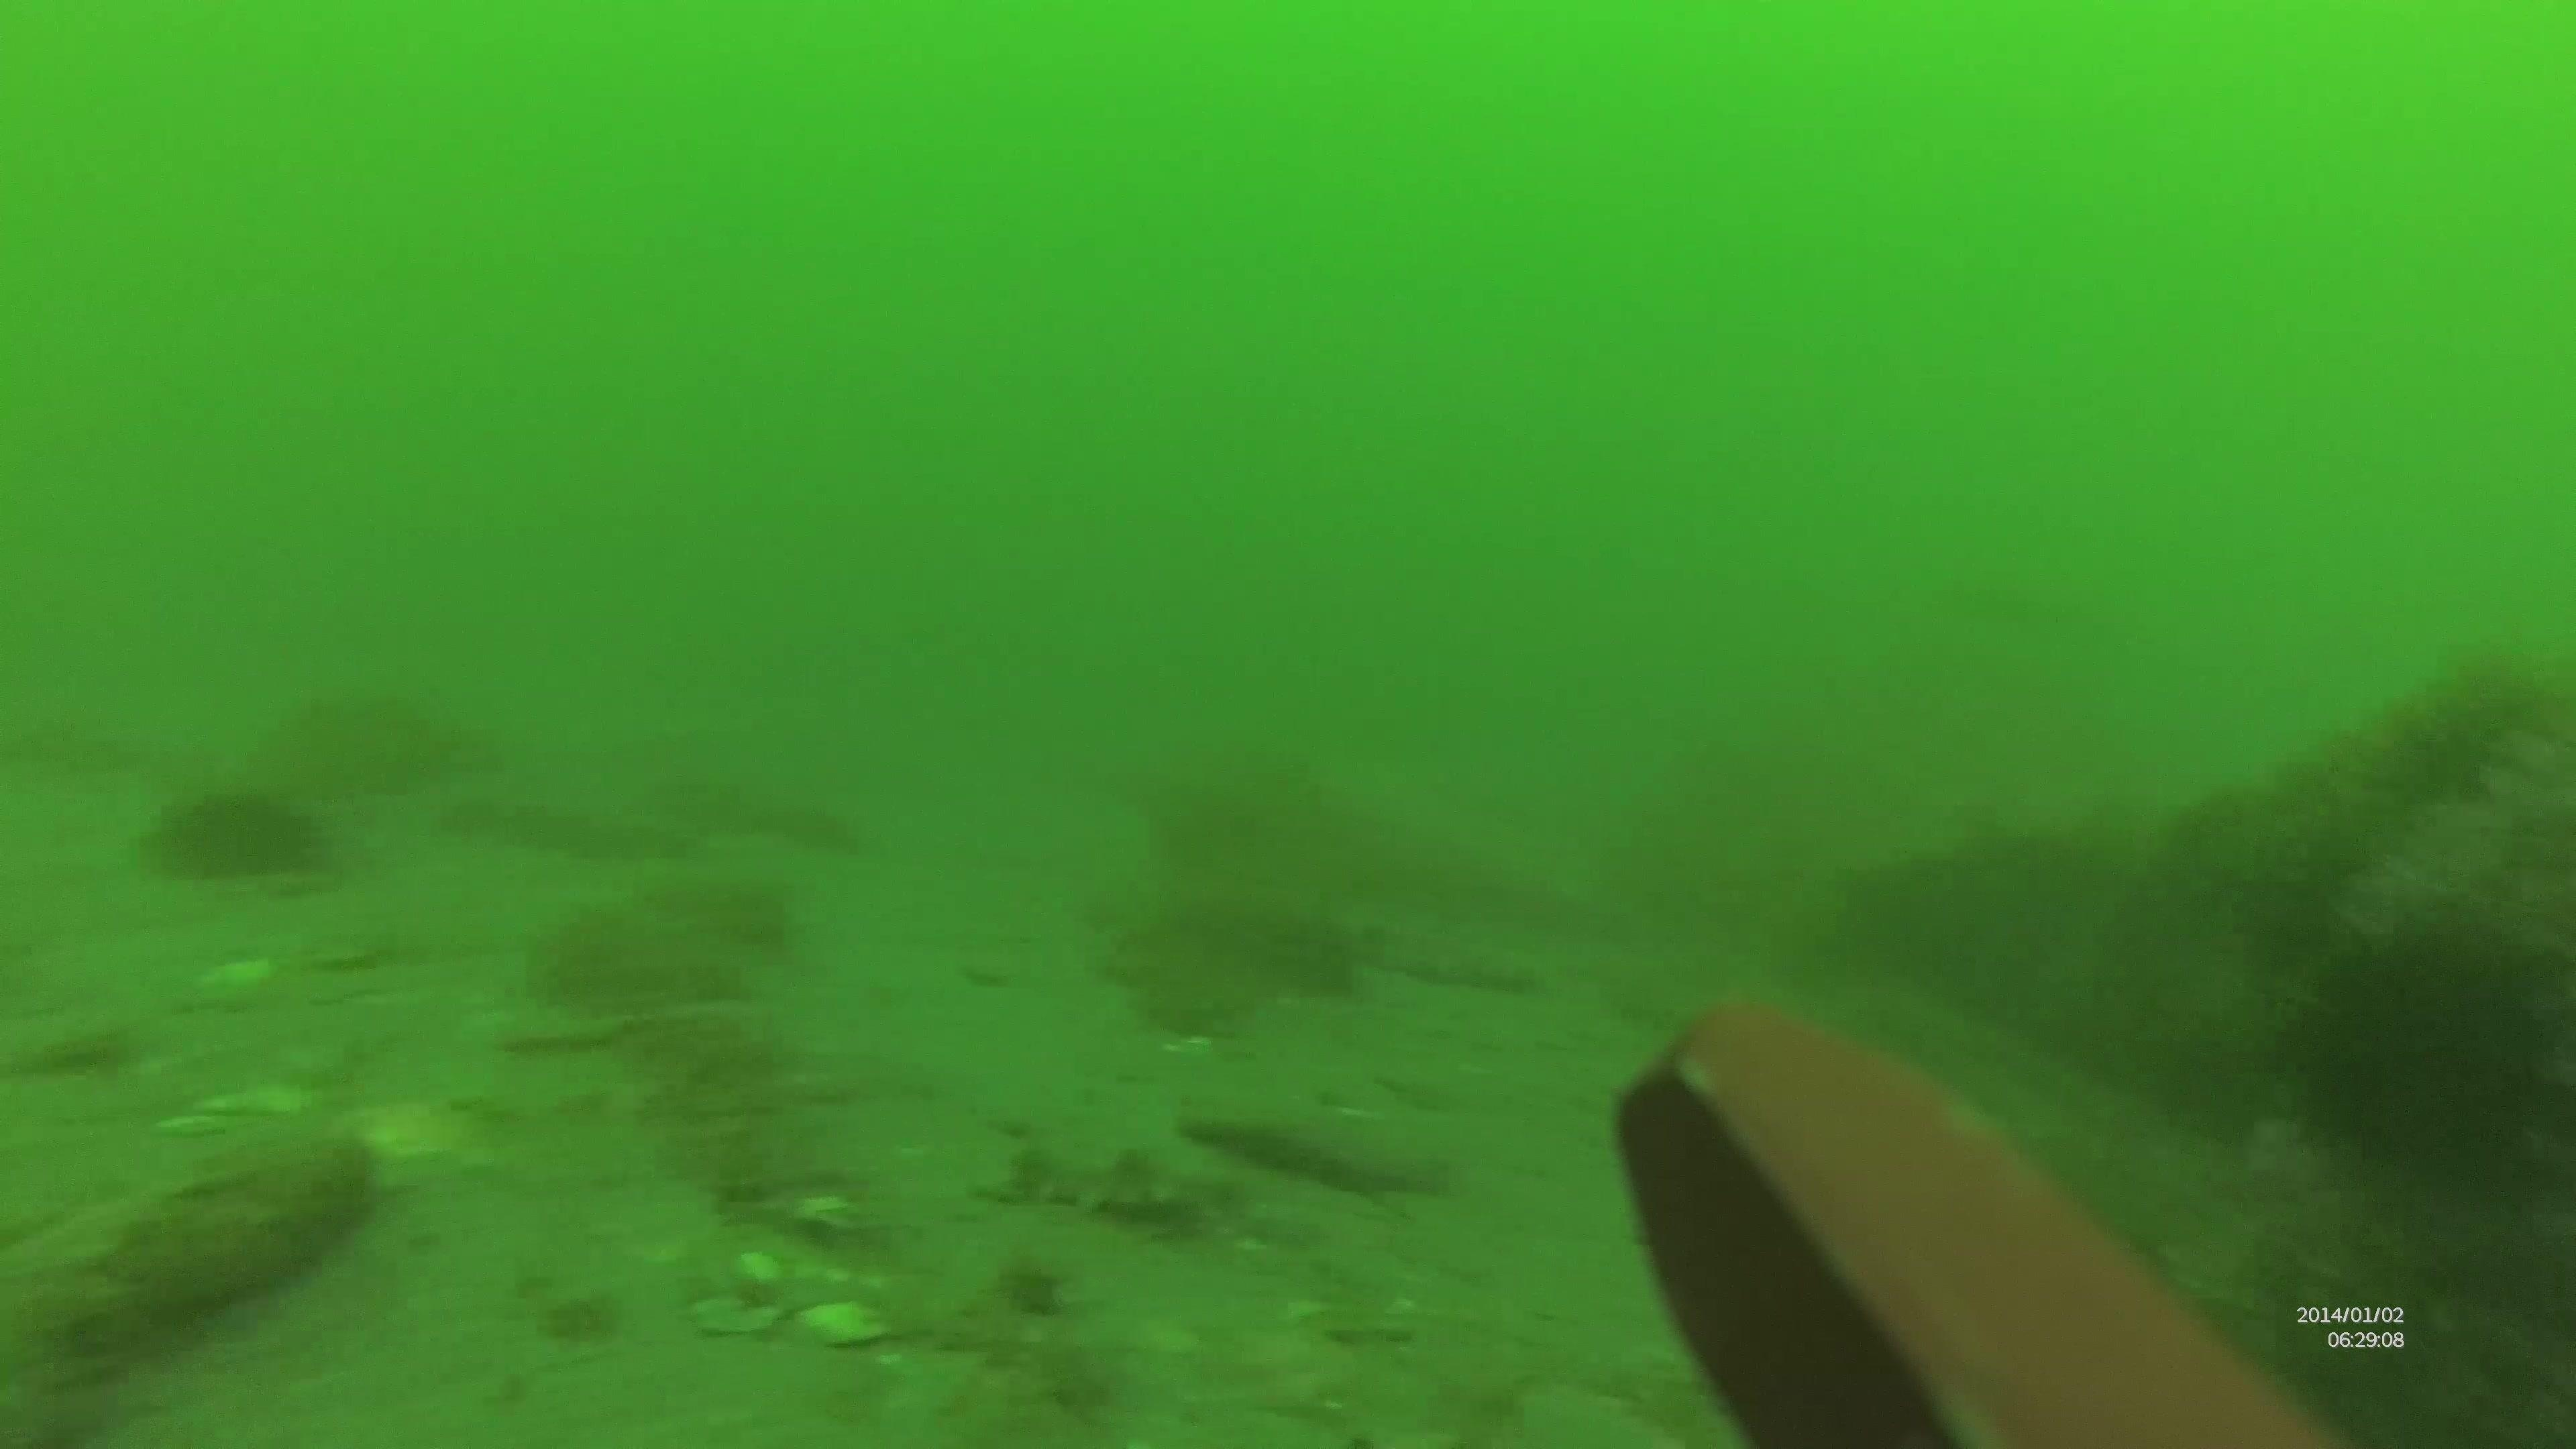echinus: (2263, 911, 2571, 1198), (142, 777, 331, 893)
holothurian: (977, 1129, 1238, 1231)
